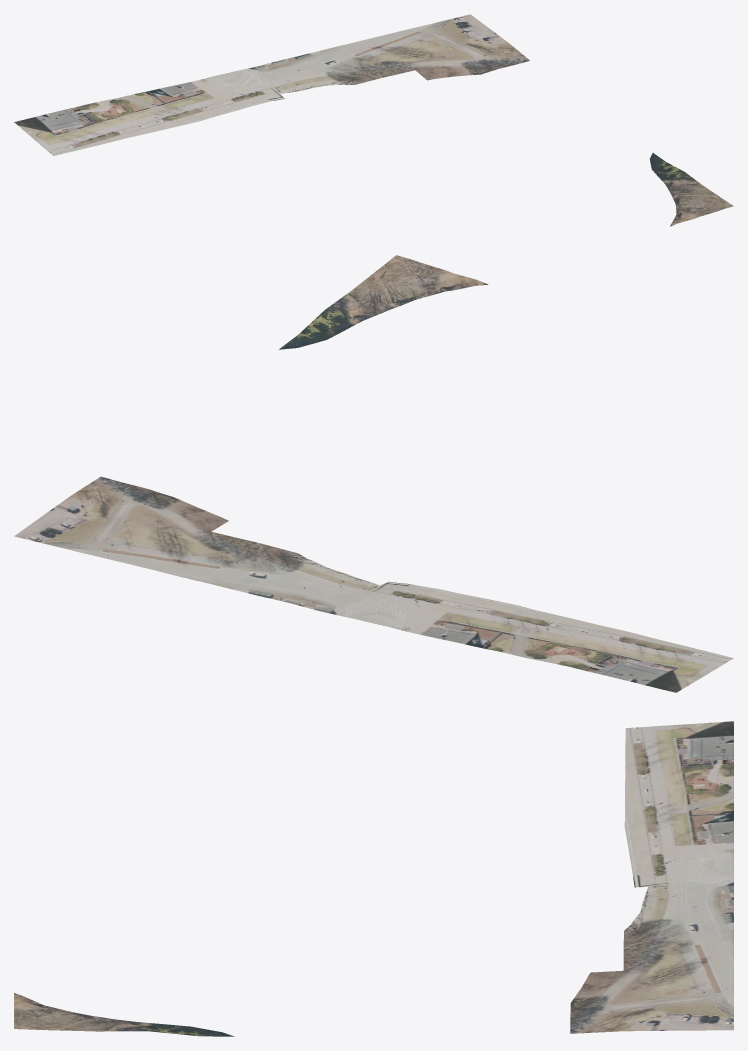
File: CM_Terrain_24487387_6819999.fbx
The picture shows the model from 3 angles, top to bottom: view 1: azimuth 30°, elevation 25°; view 2: azimuth 150°, elevation 25°; view 3: azimuth 270°, elevation 25°; orthographic projection. The views are drawn at different scales.
Parts seen in each view (by area): view 1: CM_Terrain_24487387_6819999_LOD0; view 2: CM_Terrain_24487387_6819999_LOD0; view 3: CM_Terrain_24487387_6819999_LOD0.
Boxes of the visible parts, x1,y1,x2,y2 form: CM_Terrain_24487387_6819999_LOD0: [14, 14, 733, 226]; CM_Terrain_24487387_6819999_LOD0: [14, 255, 733, 692]; CM_Terrain_24487387_6819999_LOD0: [14, 721, 733, 1036].
Size of what is drawn, in the model's own units: 205 by 3.99 by 205.
